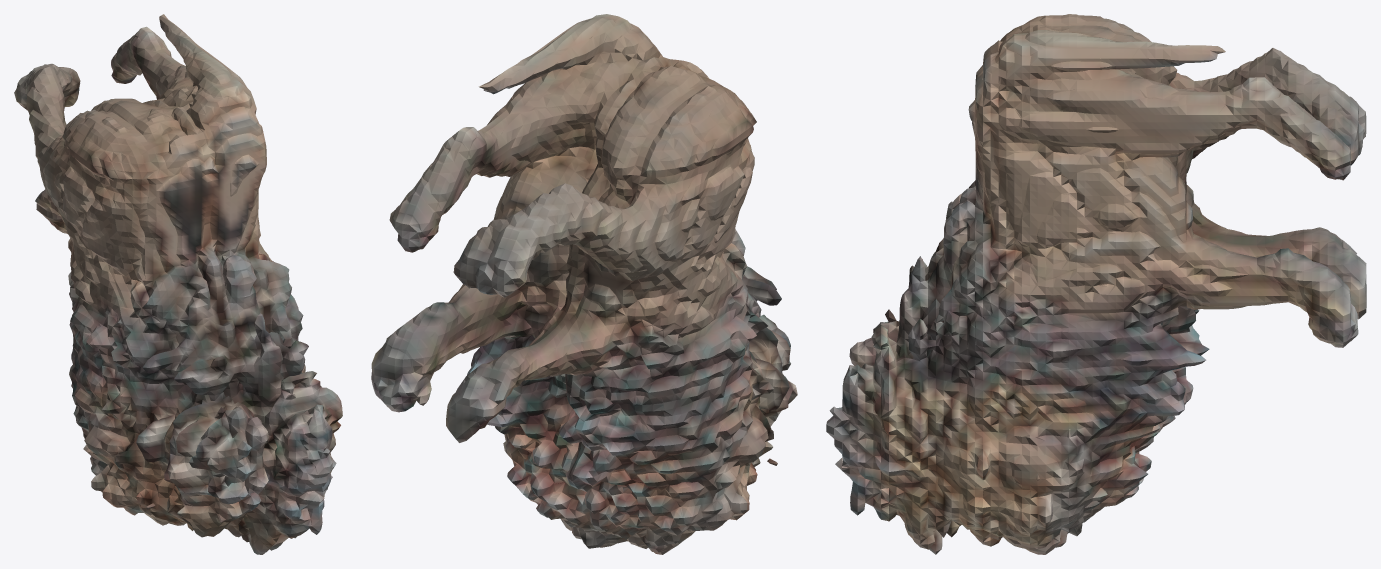
3 renders of one model, left to right at view 1: azimuth 30°, elevation 25°; view 2: azimuth 150°, elevation 25°; view 3: azimuth 270°, elevation 25°, orthographic. The views are drawn at different scales.
Visible parts, largest first — view 1: world; view 2: world; view 3: world.
Part boxes in pixels (bbox=[...]): world: bbox=[14, 14, 342, 554]; world: bbox=[371, 14, 797, 554]; world: bbox=[826, 14, 1366, 554].
Bounding box in the file's own units: 0.5158 × 0.9991 × 0.945.
